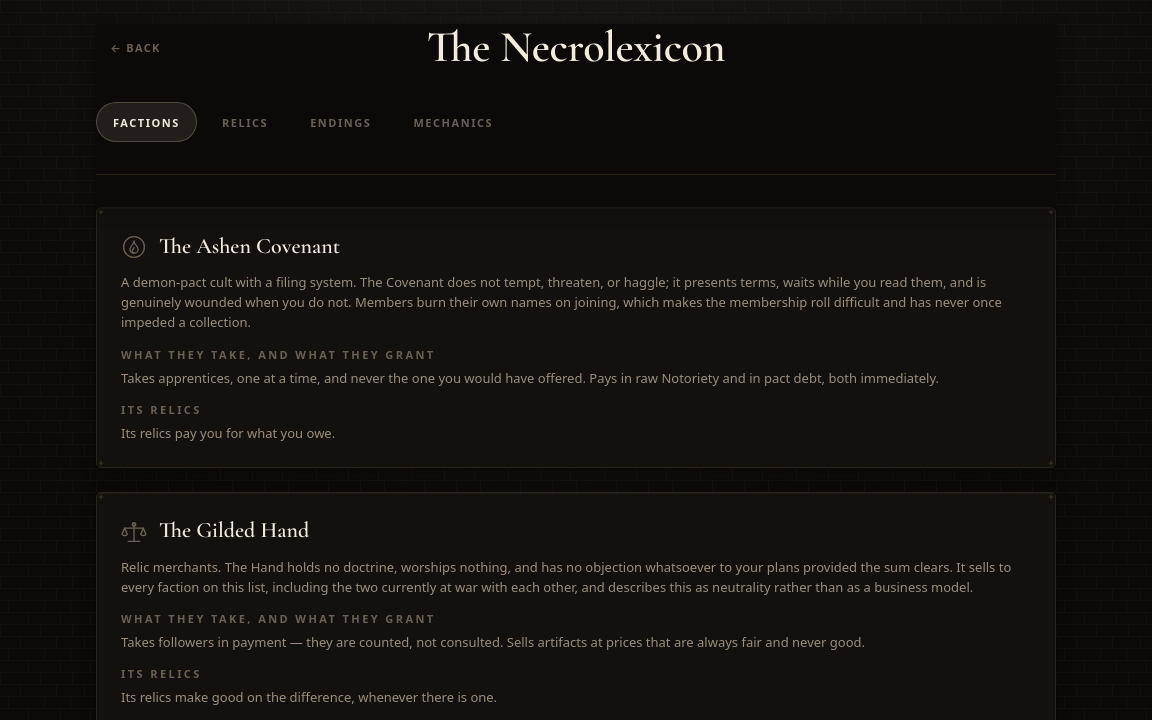
Test: NecrolexiconScreen · the seven endings › shows every ending slot from run one, unopened
Click the tab "Endings". click: [341, 122]
box: [293,102,388,142]
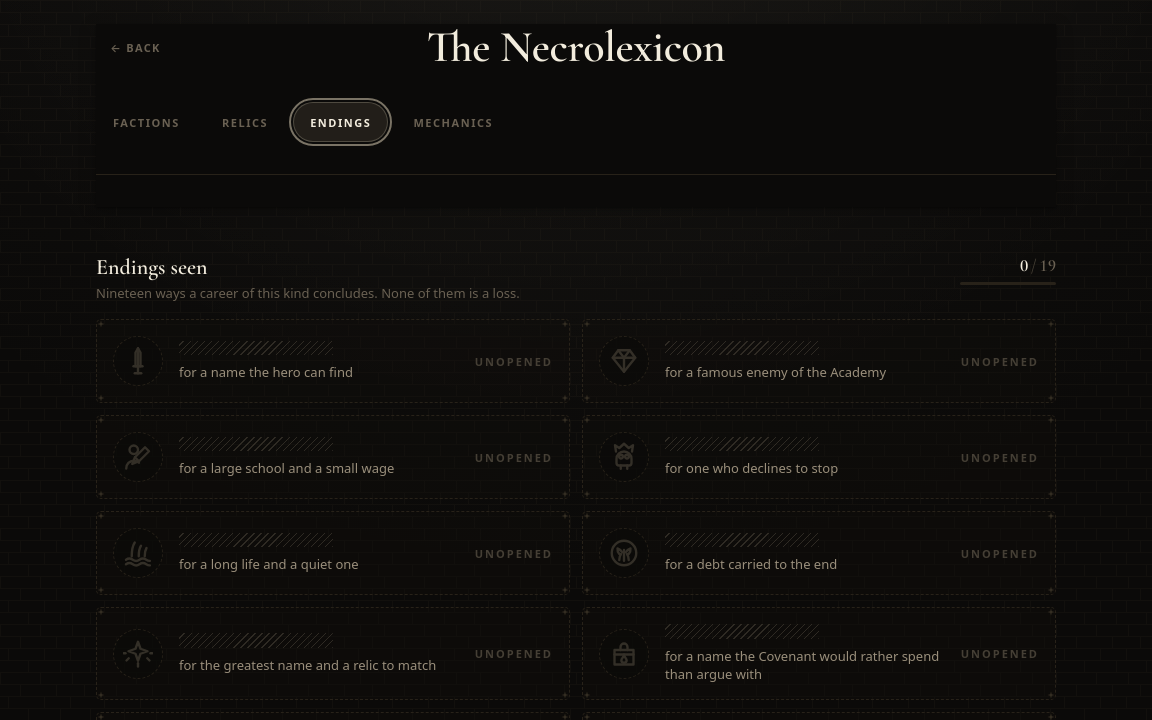
Expected: the number of elements named "An ending you have not reached" is 19
